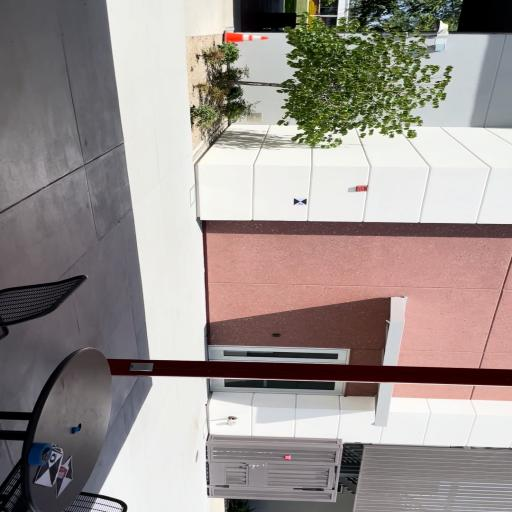target2: (294, 198, 306, 205)
